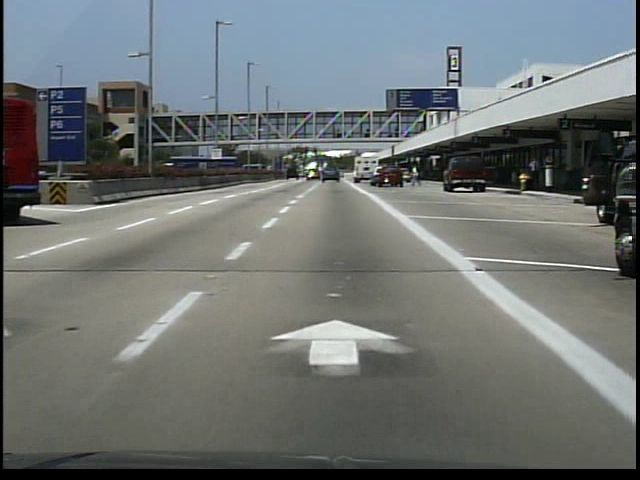person: (525, 155, 544, 198), (410, 167, 424, 190)
